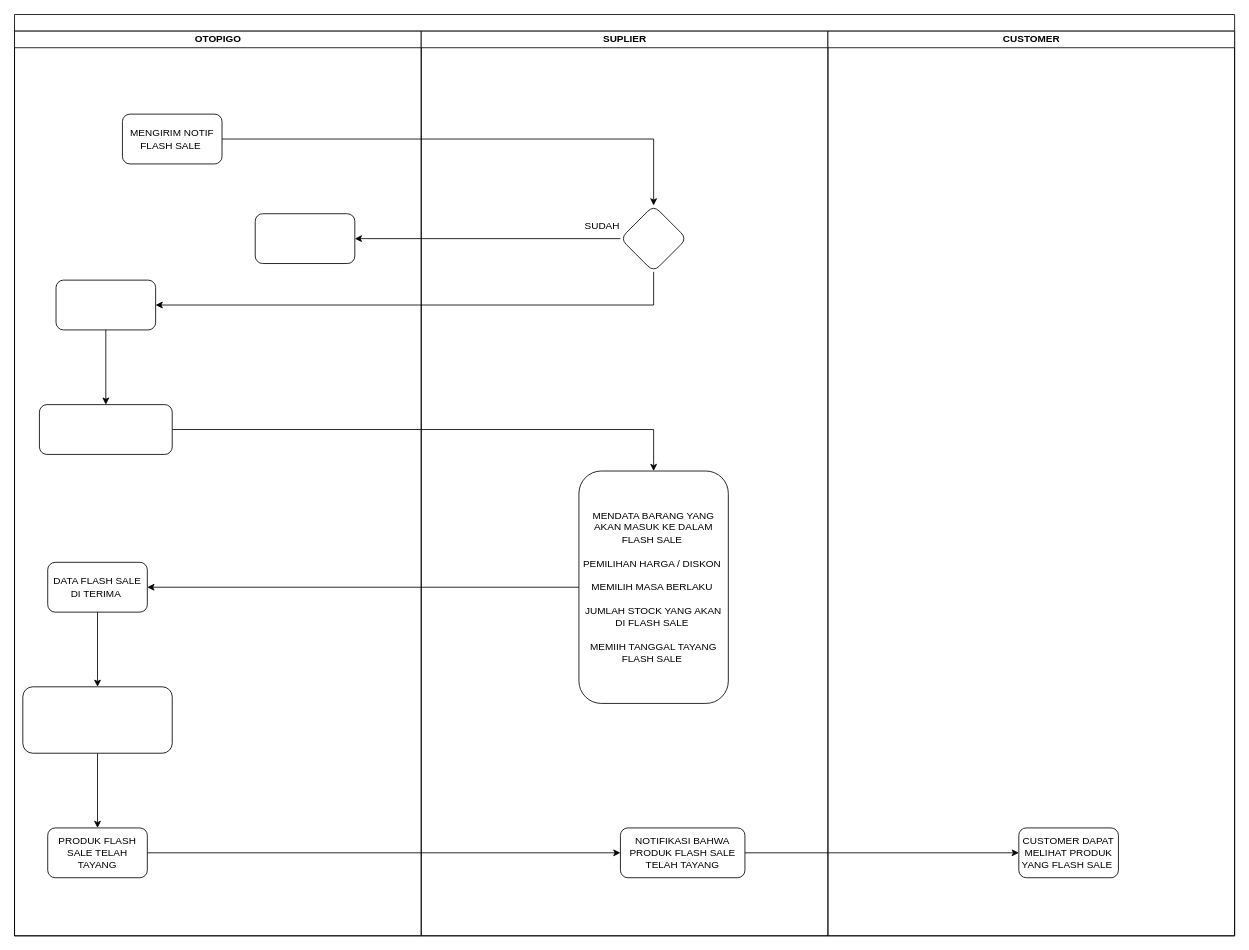
Image size: 1249x950. Some labels were removed from this diagram. The centre of each missing label's shape, as x and y in pixels:
"BELUM MEMENUHI SYARAT" goes at point (304, 238).
"DATA MASUK KE DALAM ANTRIAN TAYANG FLASH SALE" goes at point (97, 719).
"FLASH SALE" goes at point (653, 238).
"PENGISIAN FORMULIR SYARAT & KETENTUAN FLASH SALE" goes at point (105, 429).
"SUDAH MEMENUHI SYARAT" goes at point (105, 304).
